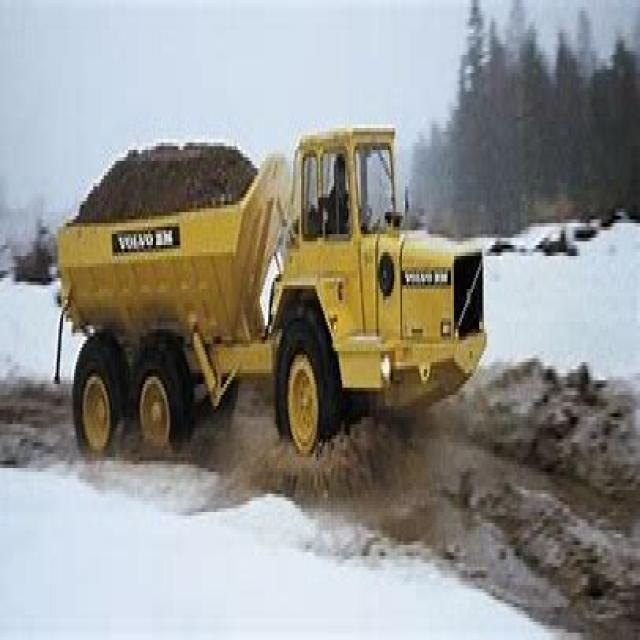dump_truck: (51, 110, 497, 493)
